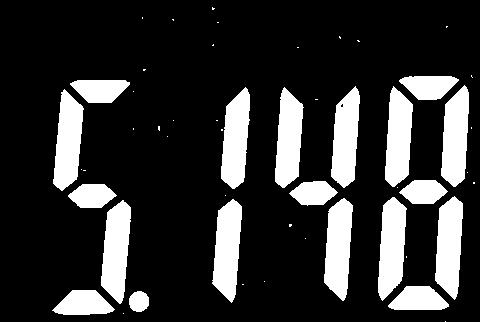1: (207, 85, 250, 307)
4: (269, 88, 363, 301)
5: (49, 81, 137, 315)
8: (374, 75, 472, 313)
dot: (127, 290, 151, 314)
